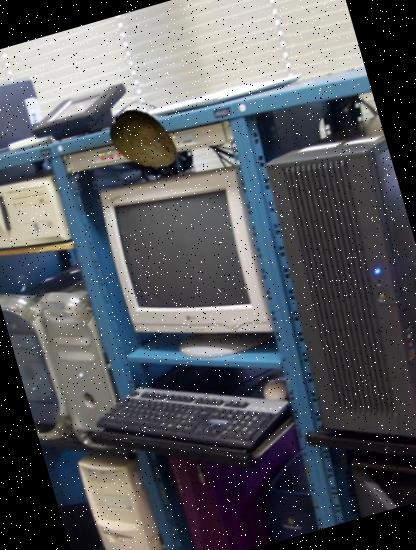Papaya: (96, 93, 190, 188)
